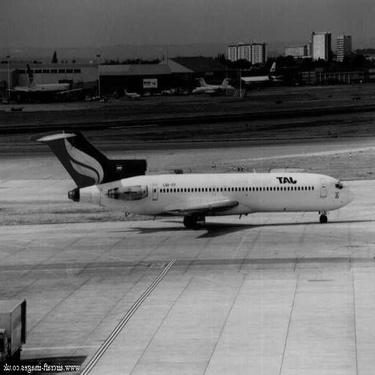airplane: (19, 117, 362, 239), (8, 57, 71, 101), (187, 66, 235, 102), (192, 71, 239, 100), (217, 73, 286, 91), (119, 84, 144, 101)
